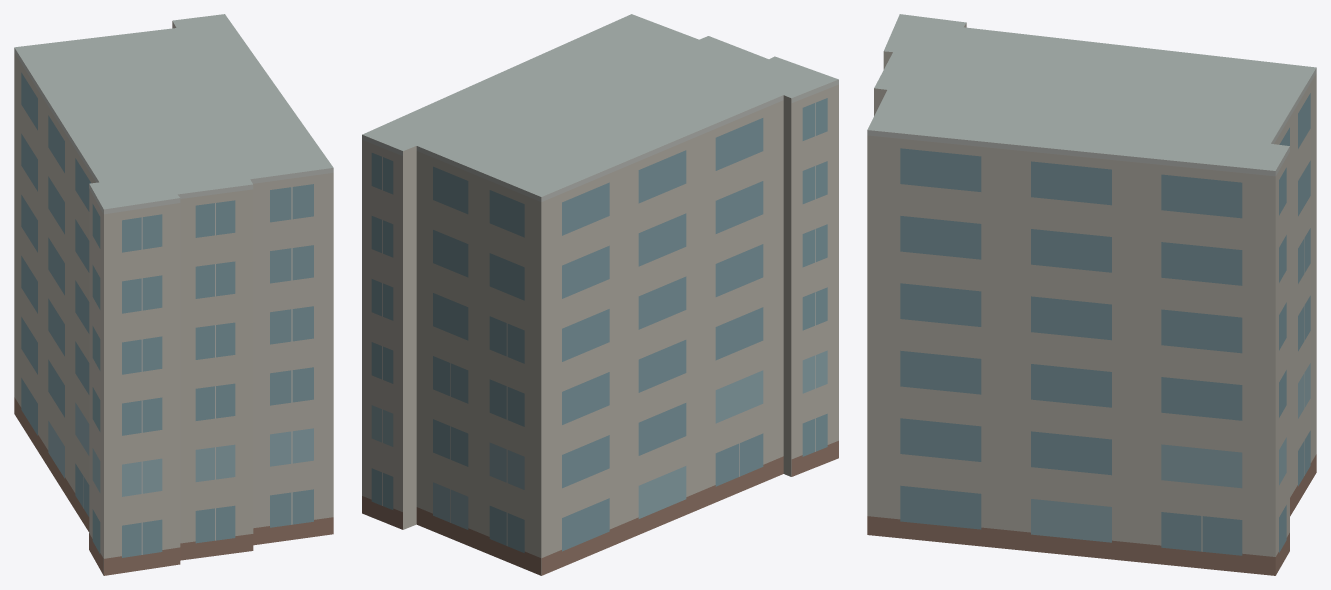
File: survey-upis-32488737.glb
The picture shows the model from 3 angles, left to right: view 1: azimuth 30°, elevation 25°; view 2: azimuth 150°, elevation 25°; view 3: azimuth 270°, elevation 25°; orthographic projection. The views are drawn at different scales.
Visible parts, largest first — view 1: survey-upis-32488737.tmp; view 2: survey-upis-32488737.tmp; view 3: survey-upis-32488737.tmp.
Part boxes in pixels (bbox=[...]): survey-upis-32488737.tmp: bbox=[14, 14, 333, 575]; survey-upis-32488737.tmp: bbox=[362, 14, 838, 575]; survey-upis-32488737.tmp: bbox=[867, 14, 1316, 575].
Bounding box in the file's own units: 15.15 × 18.2 × 18.32.
